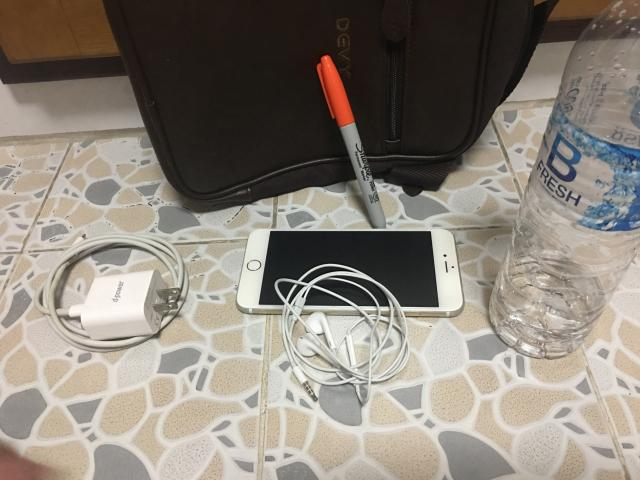Mobile phone: (236, 229, 464, 316)
Pen: (316, 55, 386, 229)
bottle: (489, 0, 640, 358)
wire: (275, 264, 409, 404), (34, 234, 189, 352)
